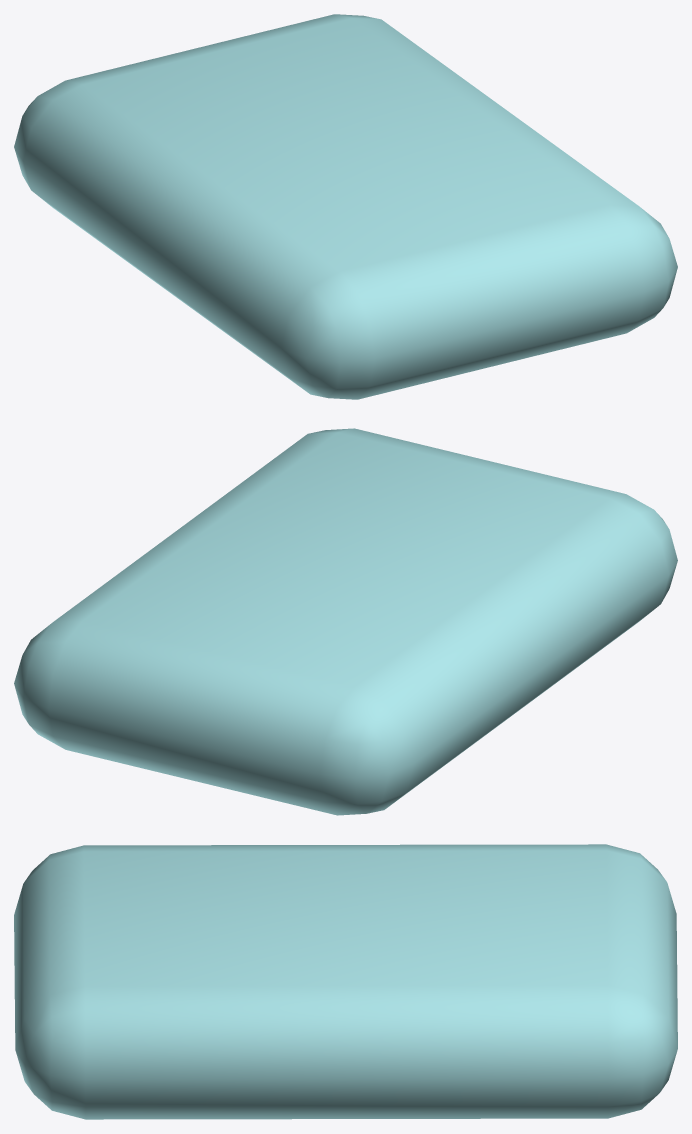
The model's file is Bar Soap.fbx.
The picture shows the model from 3 angles, top to bottom: view 1: azimuth 30°, elevation 25°; view 2: azimuth 150°, elevation 25°; view 3: azimuth 270°, elevation 25°; orthographic projection. The views are drawn at different scales.
Visible parts, largest first — view 1: Bar Soap; view 2: Bar Soap; view 3: Bar Soap.
Part boxes in pixels (box(x1,y1,x2,y2)): Bar Soap: box(14, 14, 677, 399); Bar Soap: box(14, 428, 677, 815); Bar Soap: box(14, 844, 677, 1119).
Size of the model in its own units: 17.57 by 12.2 by 3.7.
